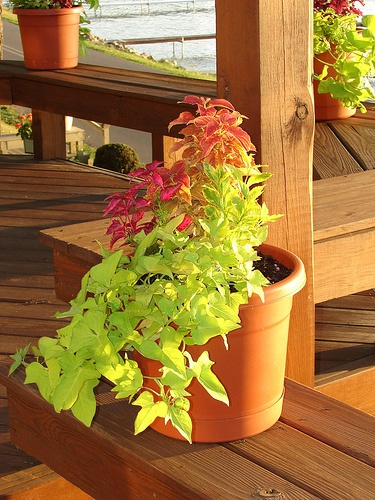flowerpot: (119, 242, 305, 444)
